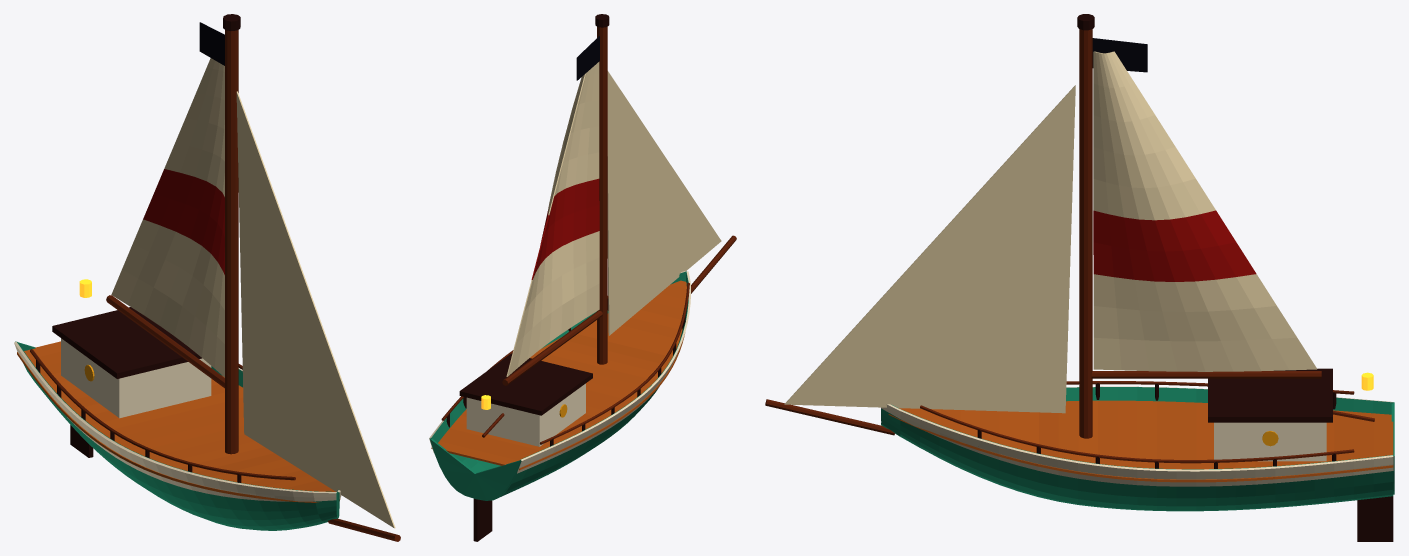
The model's file is tb_coastal_sloop.glb.
3 renders of one model, left to right at view 1: azimuth 30°, elevation 25°; view 2: azimuth 150°, elevation 25°; view 3: azimuth 270°, elevation 25°, orthographic. The views are drawn at different scales.
Parts seen in each view (by area): view 1: tidebreakers_coastal_sloop_mesh; view 2: tidebreakers_coastal_sloop_mesh; view 3: tidebreakers_coastal_sloop_mesh.
Part boxes in pixels (x1,y1,x2,y2): tidebreakers_coastal_sloop_mesh: (14, 14, 400, 541); tidebreakers_coastal_sloop_mesh: (429, 14, 736, 541); tidebreakers_coastal_sloop_mesh: (765, 14, 1394, 541).
Bounding box in the file's own units: 3.87 × 11.28 × 12.3.
